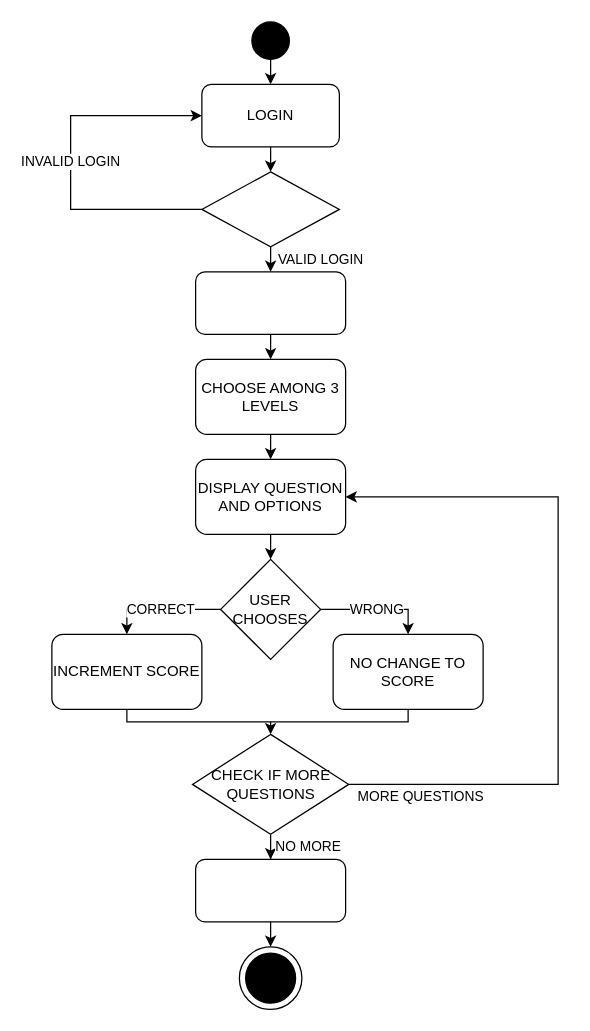
This 590x1031 diagram has some shape labels left out. Here are the shapes that lost their labels. From the top down, the centre of each, then its label:
point (270, 209): AUTHENTICATE
point (270, 302): CHOOSE A TOPIC
point (270, 890): RESULT
